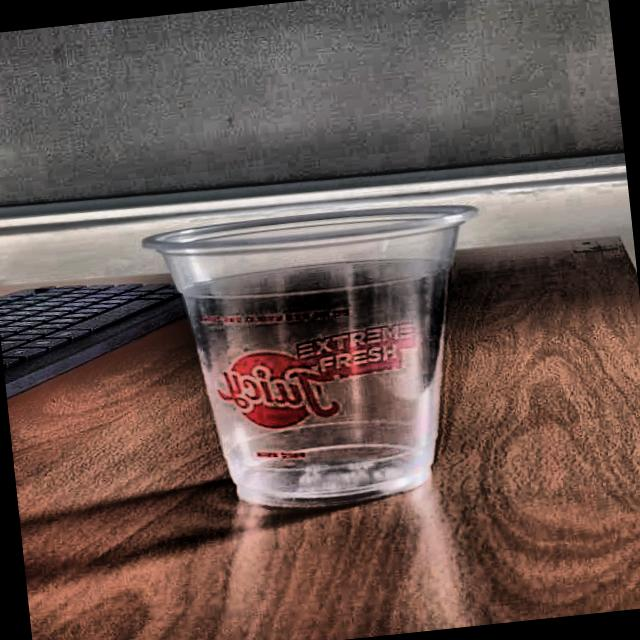plastic cup: (135, 193, 510, 528)
